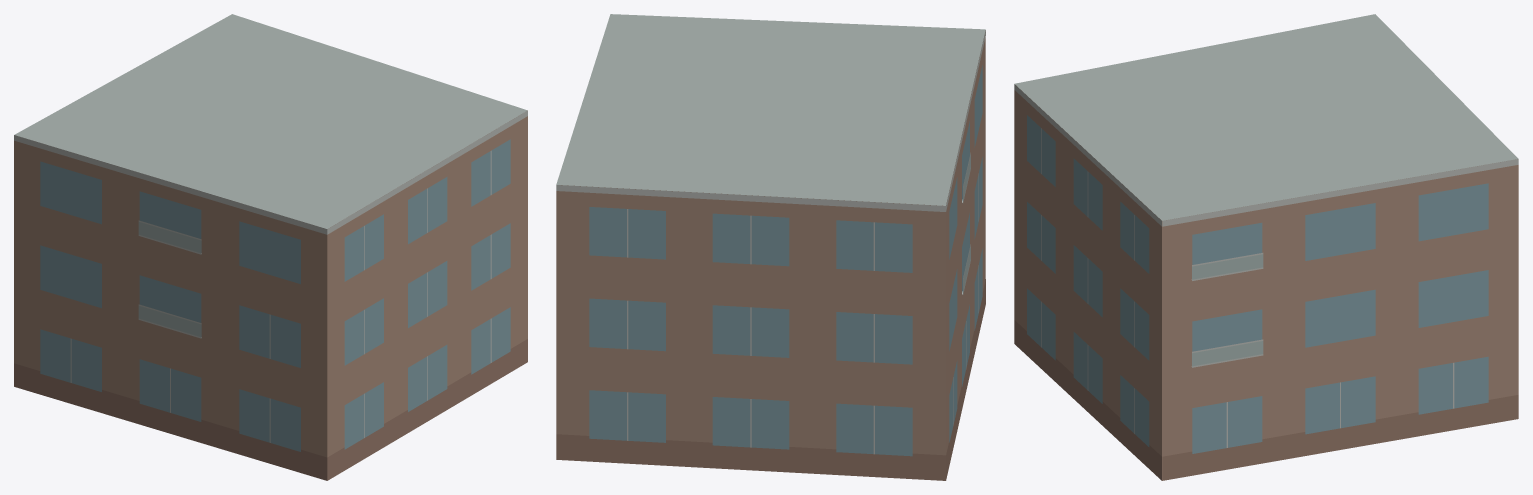
The model's file is survey-upis-32583987.glb.
The picture shows the model from 3 angles, left to right: view 1: azimuth 30°, elevation 25°; view 2: azimuth 150°, elevation 25°; view 3: azimuth 270°, elevation 25°; orthographic projection. The views are drawn at different scales.
Parts seen in each view (by area): view 1: survey-upis-32583987.tmp; view 2: survey-upis-32583987.tmp; view 3: survey-upis-32583987.tmp.
Boxes of the visible parts, left/top/right/bottom form: survey-upis-32583987.tmp: left=14, top=14, right=527, bottom=480; survey-upis-32583987.tmp: left=556, top=14, right=985, bottom=480; survey-upis-32583987.tmp: left=1014, top=14, right=1518, bottom=480.
Size of the model in its own units: 18.44 by 10.8 by 19.
